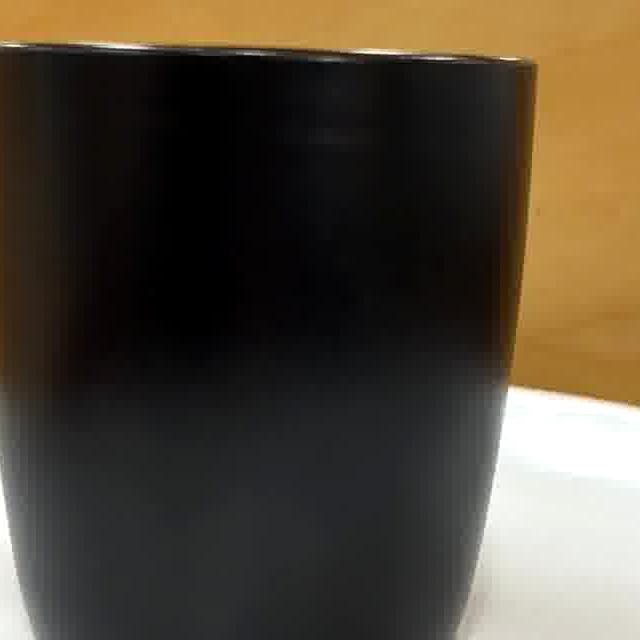cup: (0, 45, 532, 640)
